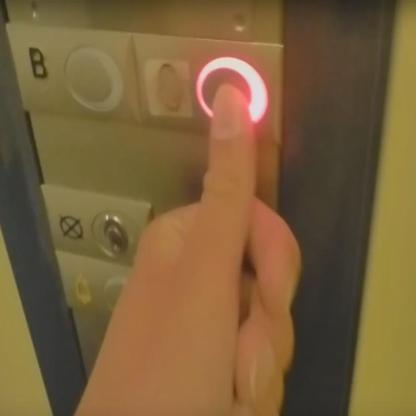B: (3, 20, 142, 126)
alarm: (54, 250, 153, 338)
blur: (129, 31, 284, 147)
stop: (40, 182, 156, 266)
